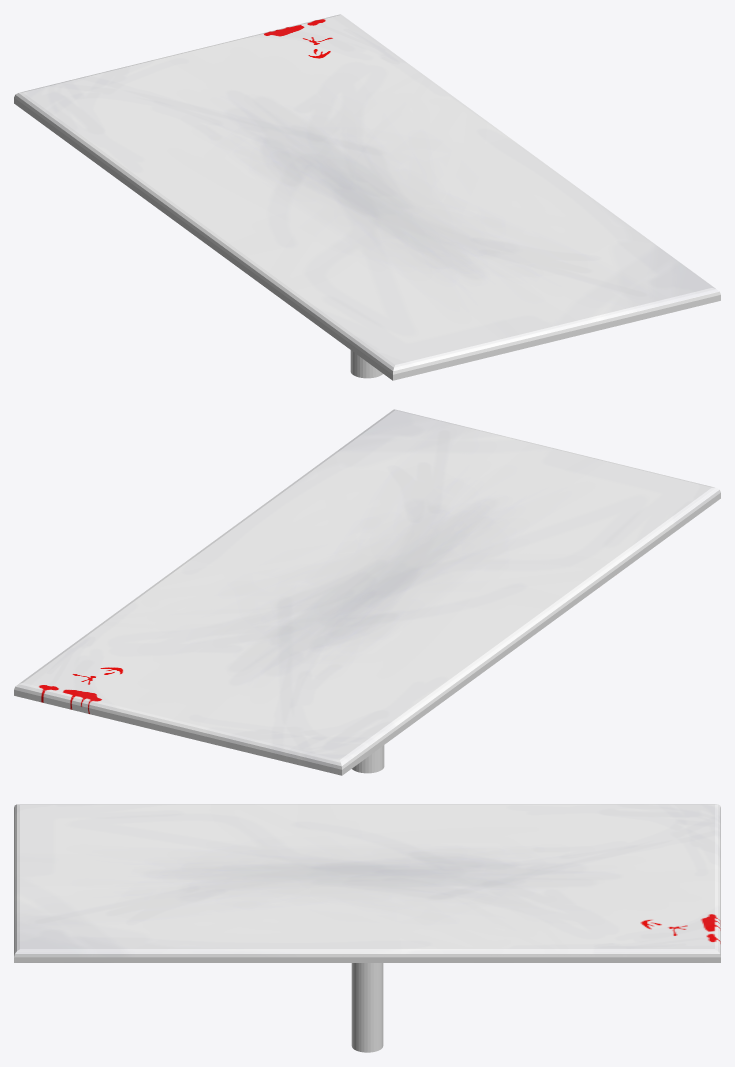
File: tableOperation.fbx
3 views of the same model, one above another, from view 1: azimuth 30°, elevation 25°; view 2: azimuth 150°, elevation 25°; view 3: azimuth 270°, elevation 25° (orthographic). The views are drawn at different scales.
Visible parts, largest first — view 1: Cylinder; view 2: Cylinder; view 3: Cylinder.
Boxes of the visible parts, x1,y1,x2,y2 form: Cylinder: (14,14,720,380); Cylinder: (14,409,720,775); Cylinder: (14,804,720,1052).
Size of the model in its own units: 200 by 105 by 400.
Materials: 1 (1 with a texture image).
